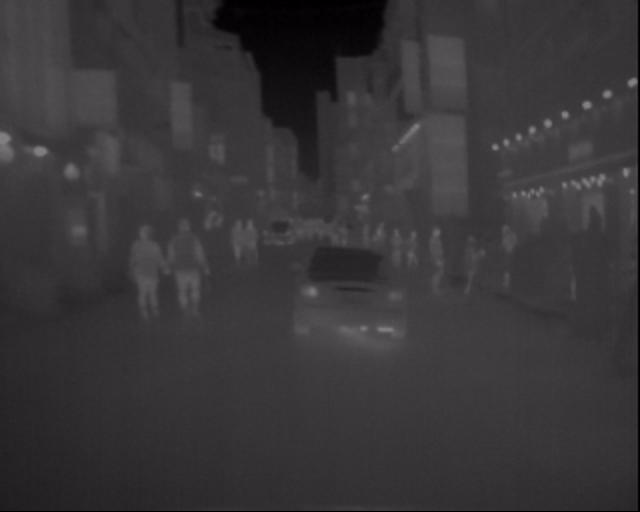person: (164, 218, 207, 322), (131, 224, 166, 328), (419, 224, 444, 291), (228, 218, 248, 262)
